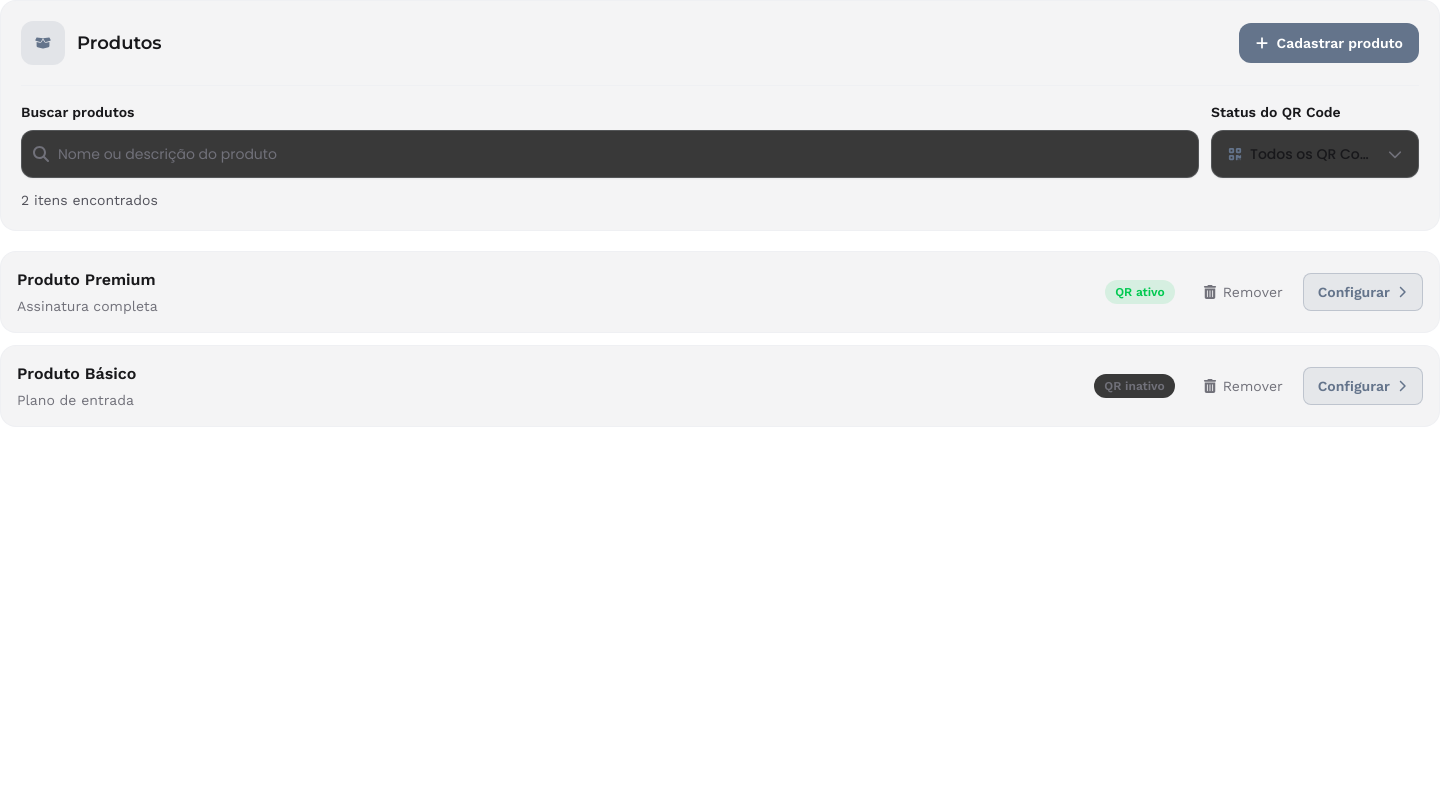
Test: CatalogItemsList › filtra produtos pelo texto e pelo status do QR Code
The width and height of the screenshot is (1440, 810).
Type "premium" into the search field labelled "Buscar produtos".
click(610, 154); type("premium")  # box [21,130,1199,178]
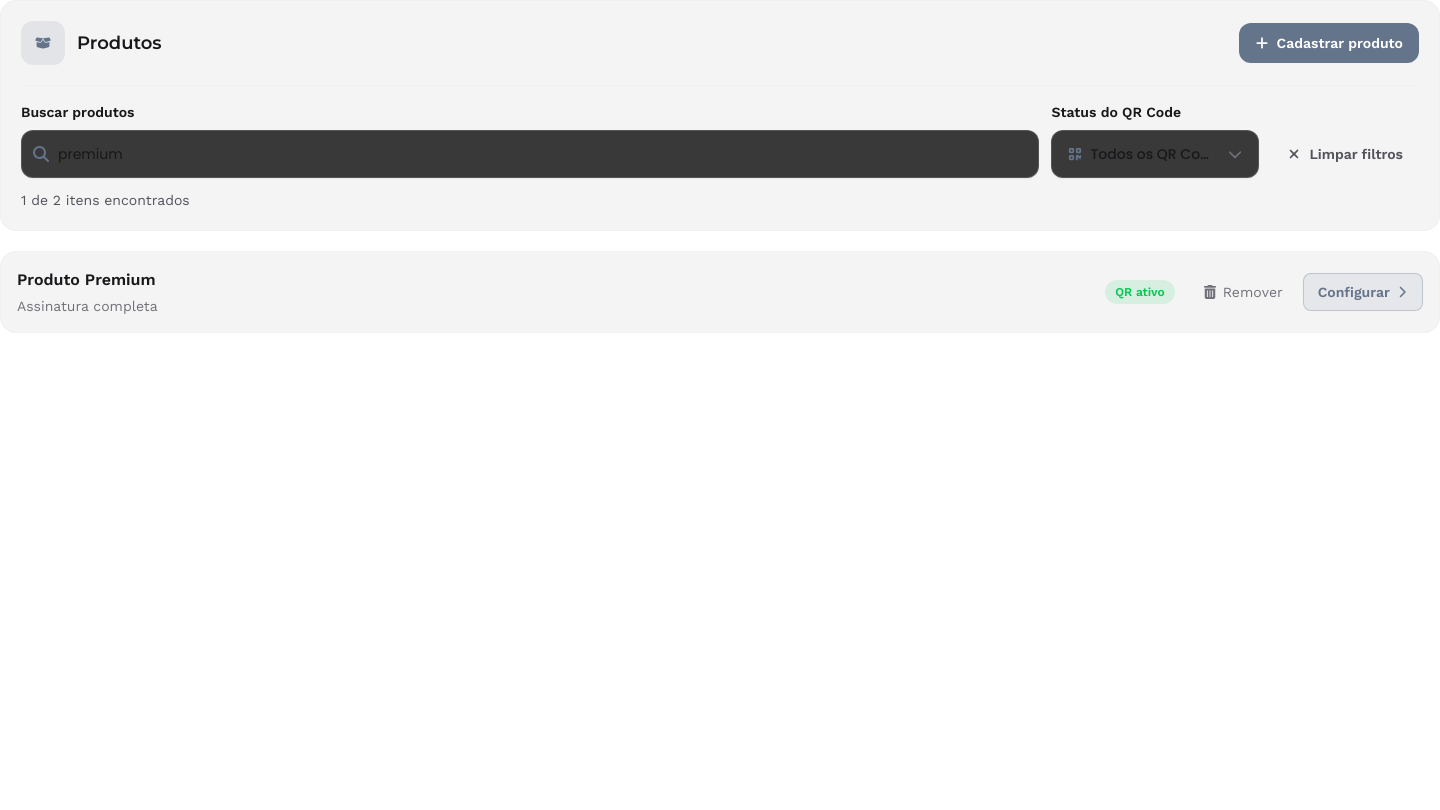
Expected: the text "Produto Premium" is shown, [17,270,156,289]
Result: the text "Produto Básico" is gone
Click the button "Limpar filtros".
click(1345, 154)  # box [1271,130,1419,178]
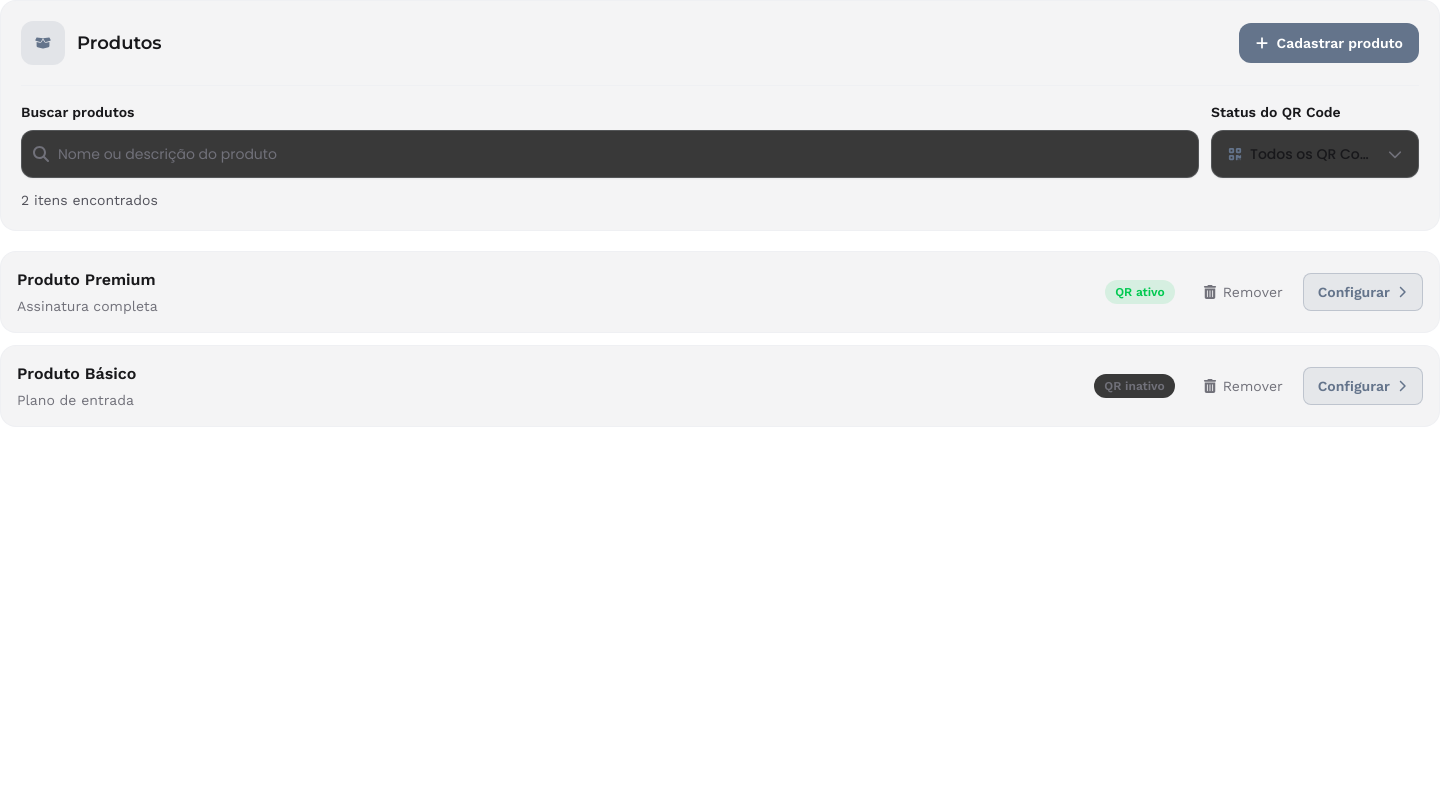
Click the dropdown.
click(1315, 154)  # box [1211,130,1419,178]
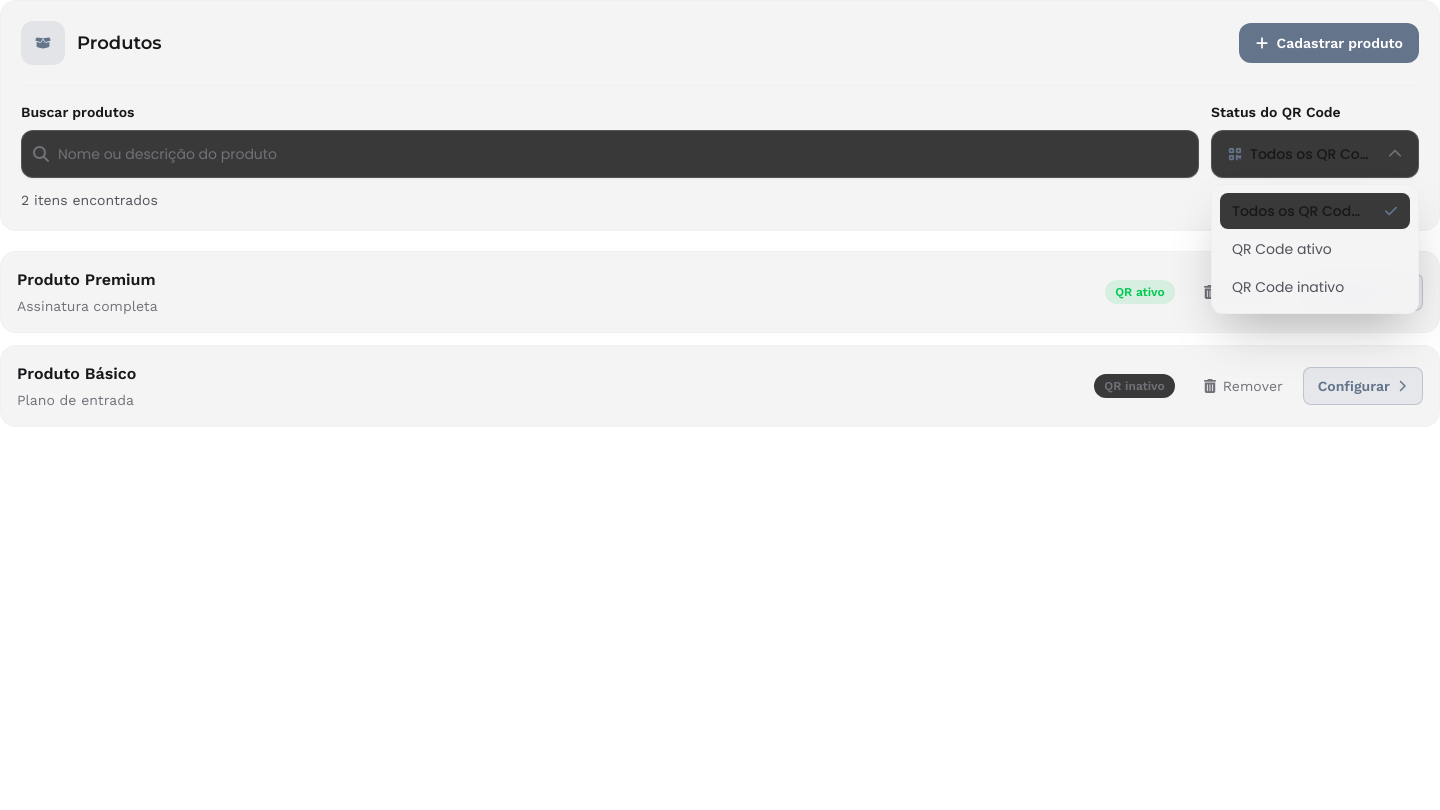
Click the option "QR Code inativo".
click(1315, 287)  # box [1220,269,1410,305]
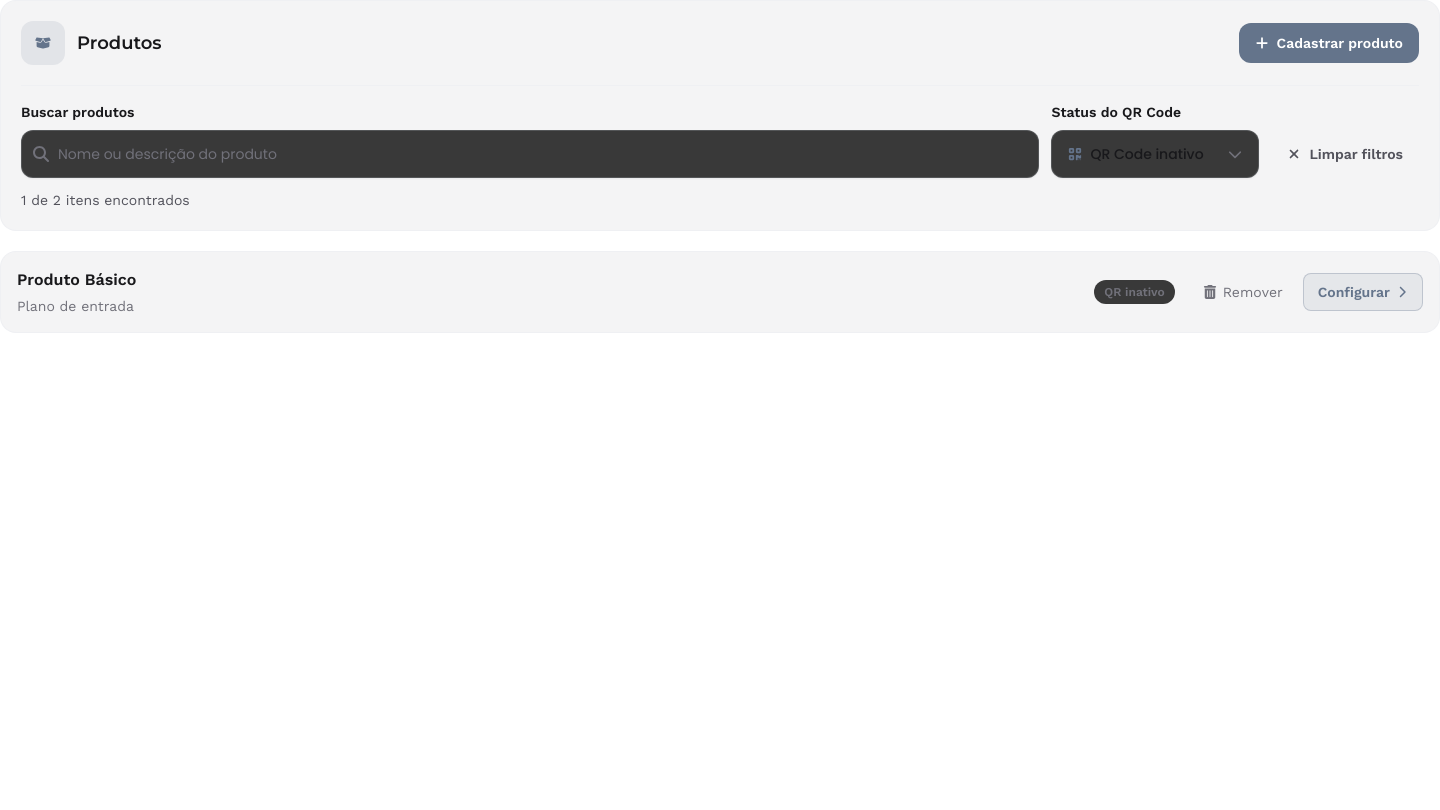
Result: the text "Produto Básico" is shown at [17,270,136,289]
Result: the text "Produto Premium" is gone
Result: the text "1 de 2 itens encontrados" is shown at [21,192,190,208]
